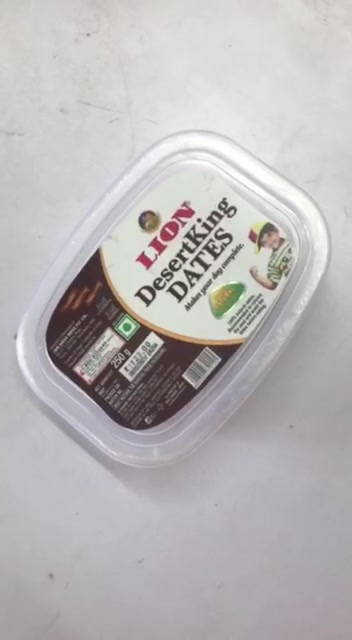Lion dates: (15, 131, 331, 469)
